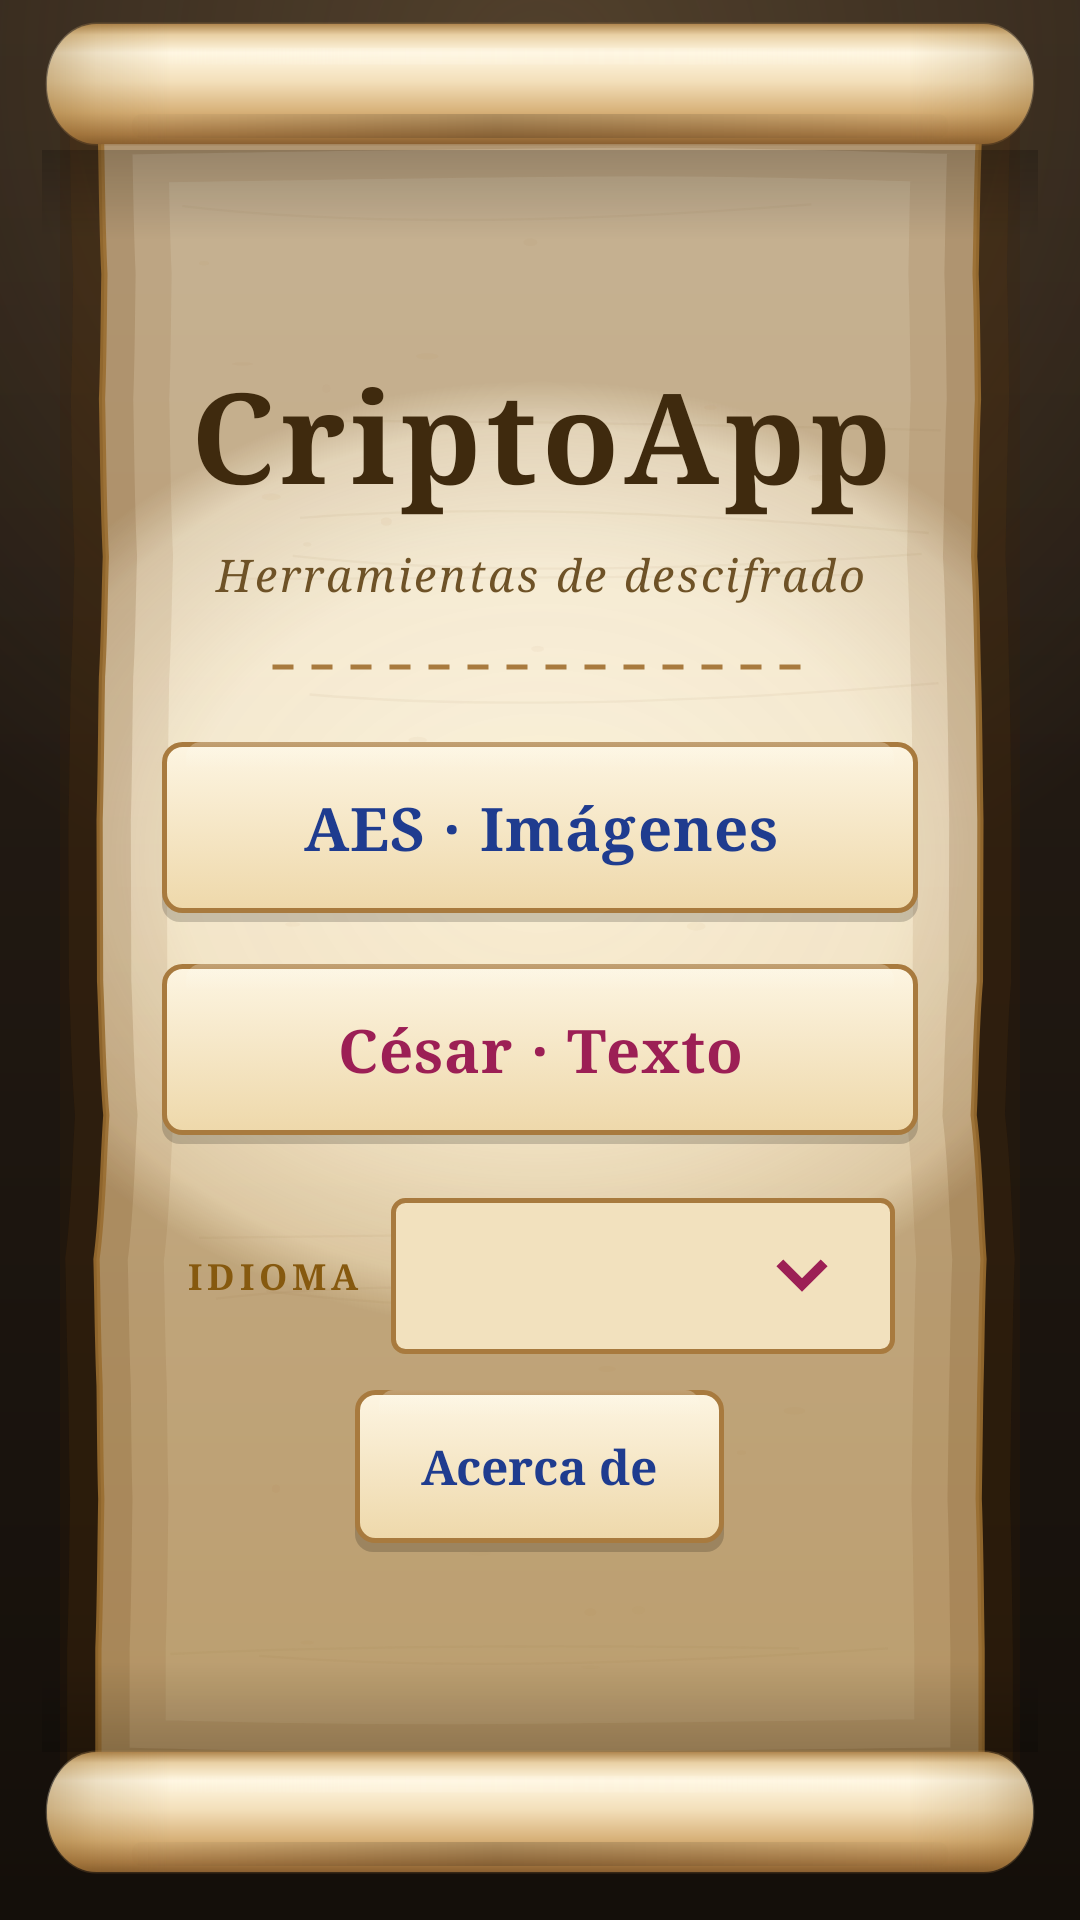

Icon click points for this 1080px x 1920px phone screenshot, format (x,y):
flecha abajo: (802,1275)
